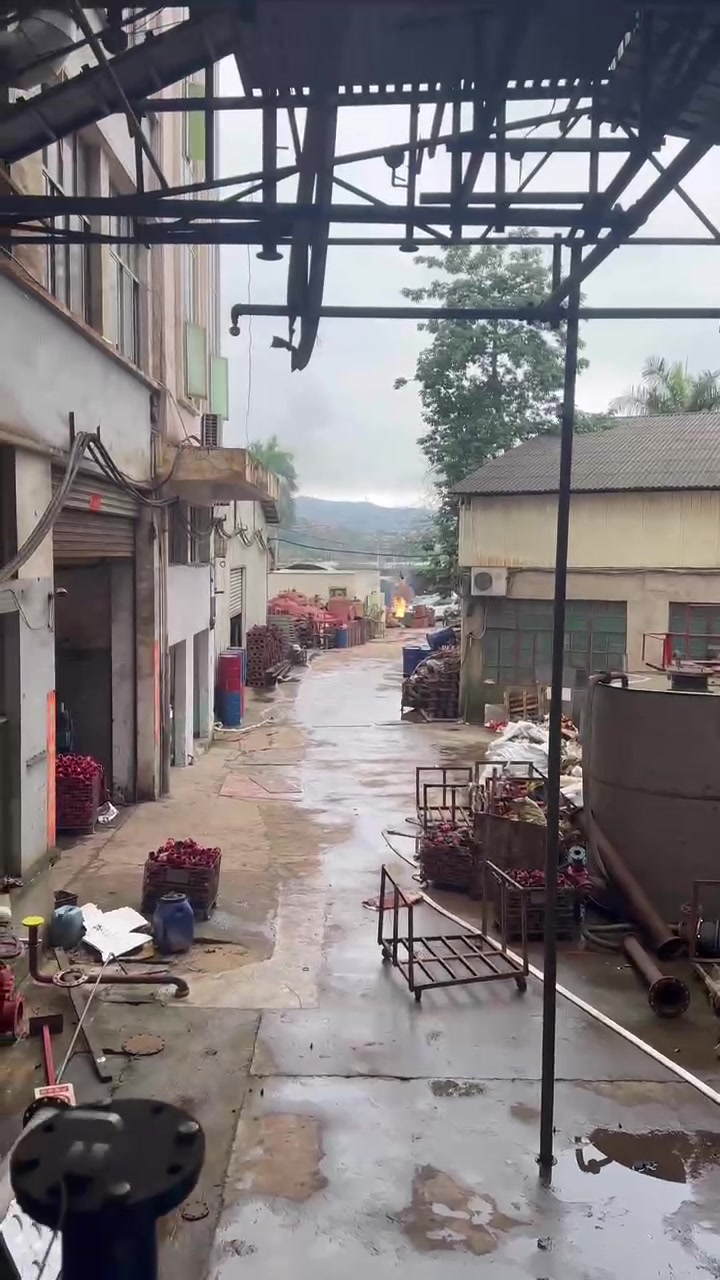fire: (393, 597, 406, 616)
